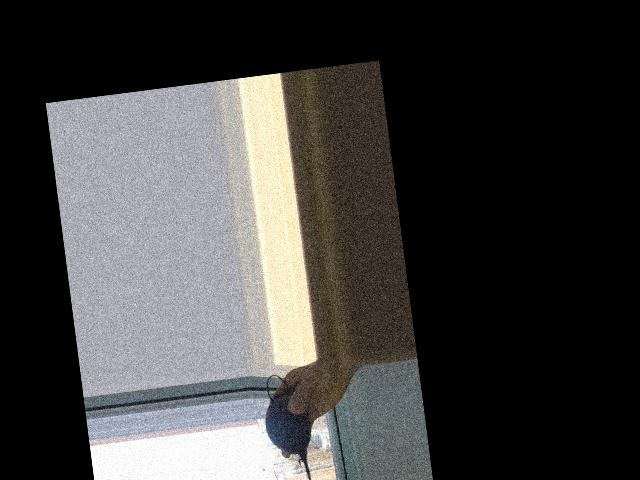beet: (259, 371, 321, 480)
